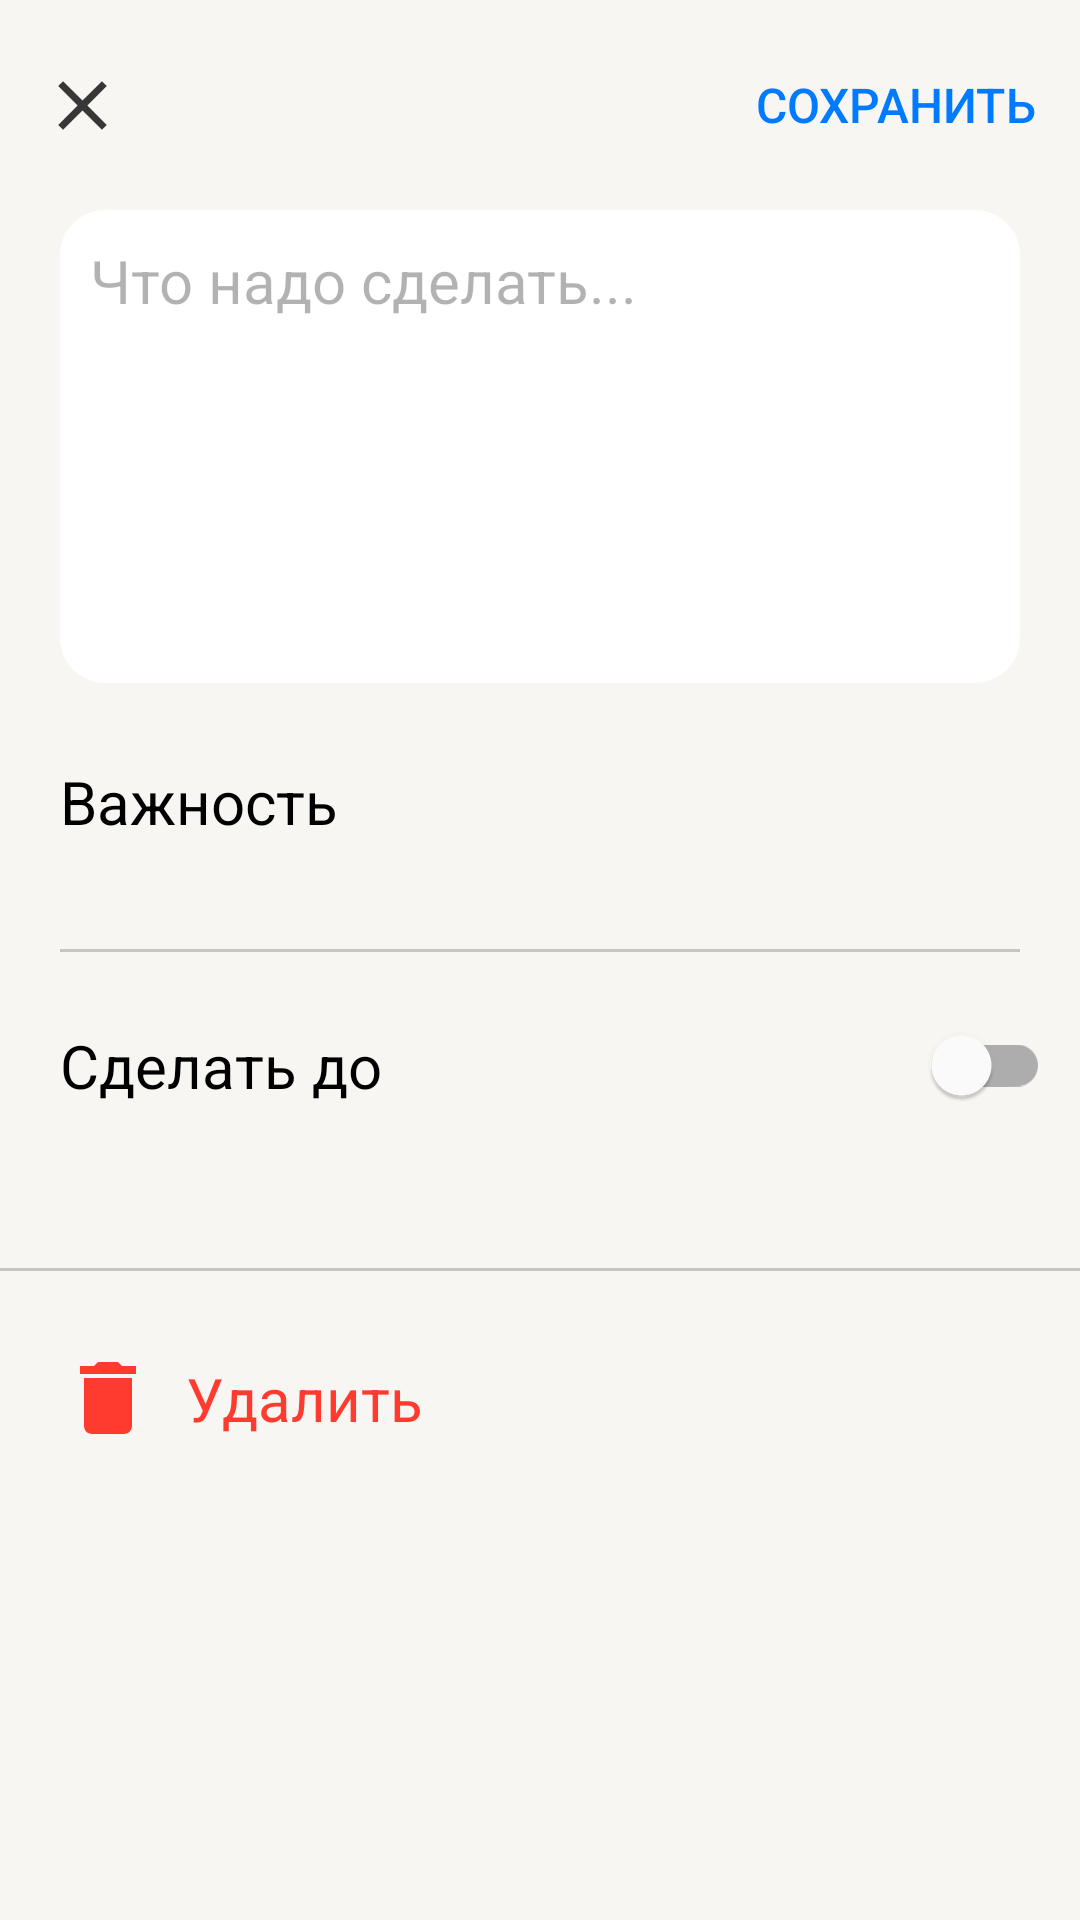

Where to tap for icons on this 1080w x 1920h app screen, as (x,y):
close: (82,105)
delete: (108,1398)
